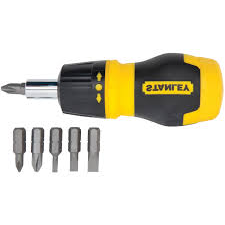Screwdriver: (1, 51, 225, 129)
